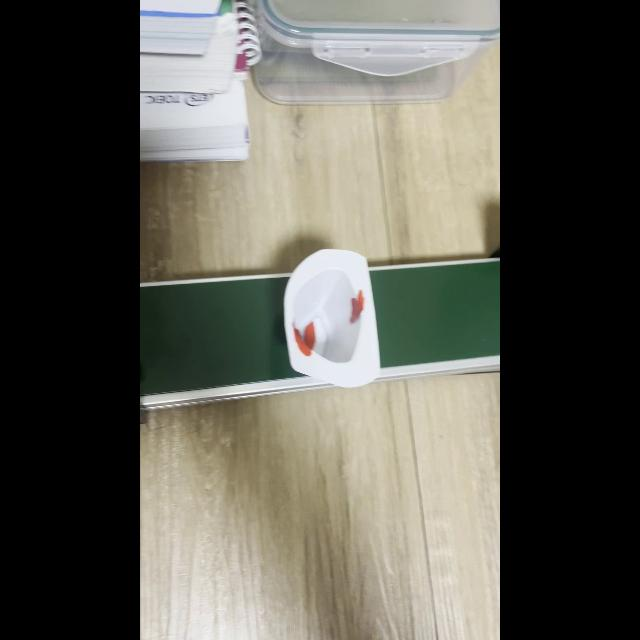dirty: (283, 248, 382, 388)
